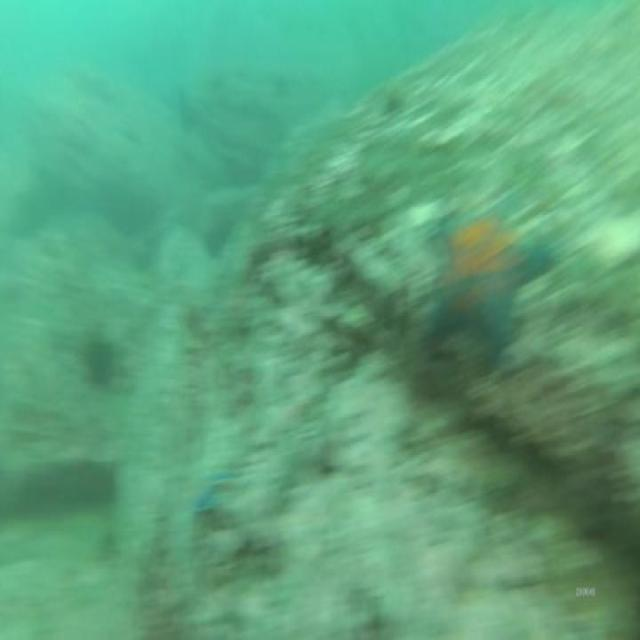starfish: (419, 180, 556, 367)
